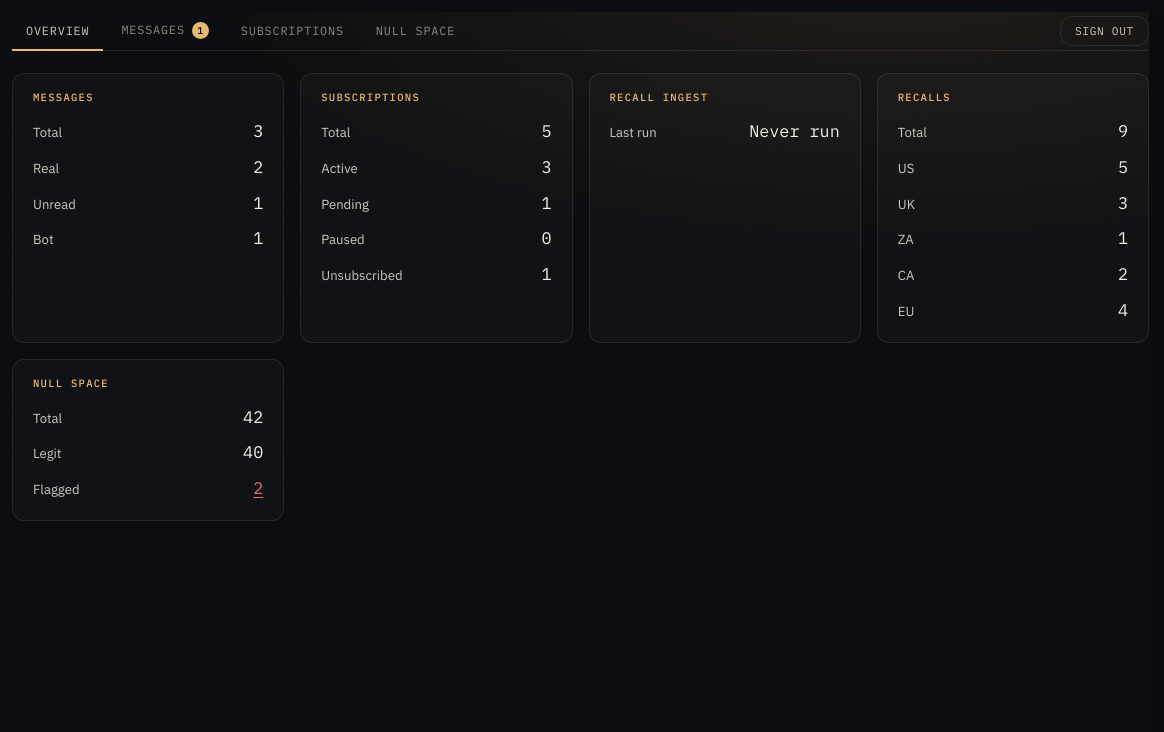
Test: AdminShell tab navigation › opens Messages on the unread filter and reflects the choice in the URL
Click the button with aria-label "Open Messages" at (63, 97), box [12, 73, 284, 343]
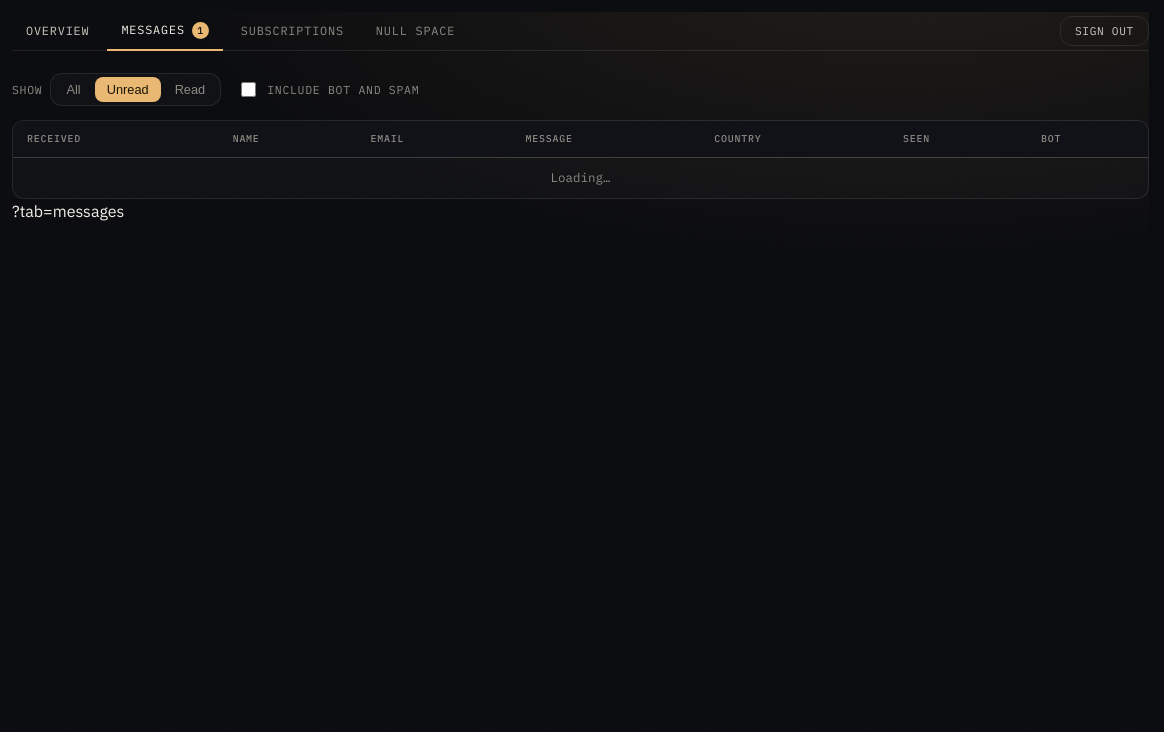
Expected: the text with test id "search" reads "?tab=messages", [12, 201, 124, 221]
Click the button "All" at (74, 90), box [54, 77, 93, 102]
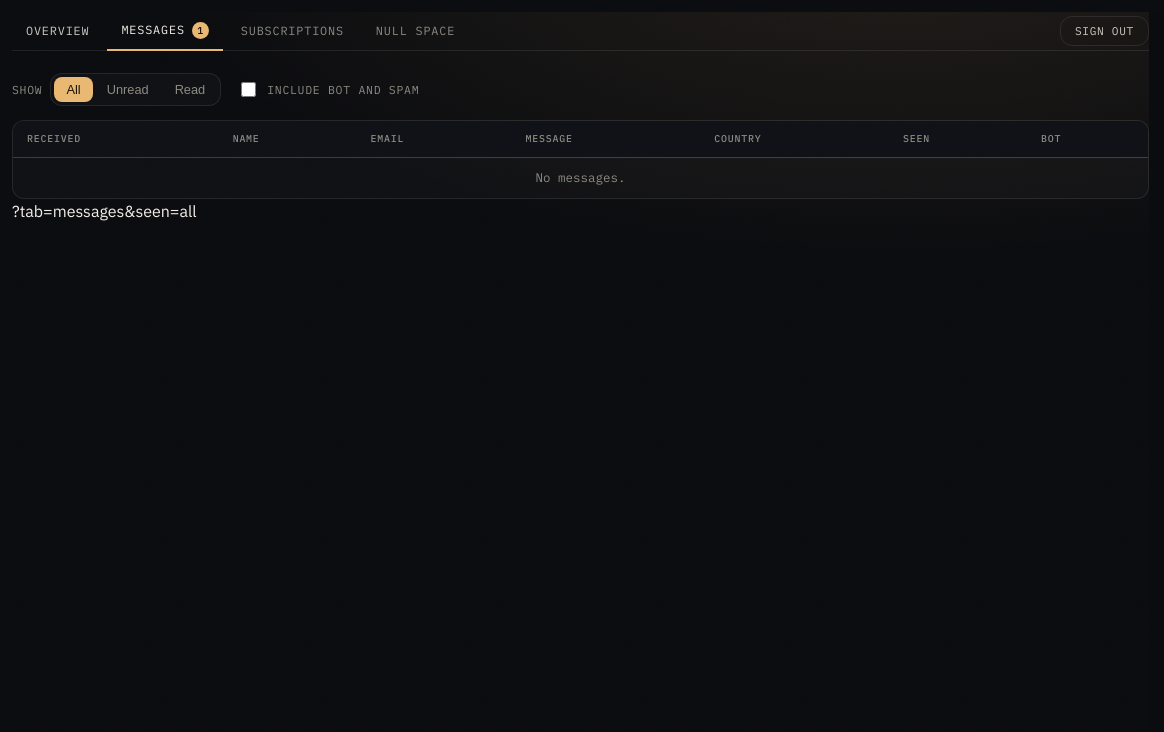
Expected: the text with test id "search" shows "seen=all", [12, 201, 197, 221]
